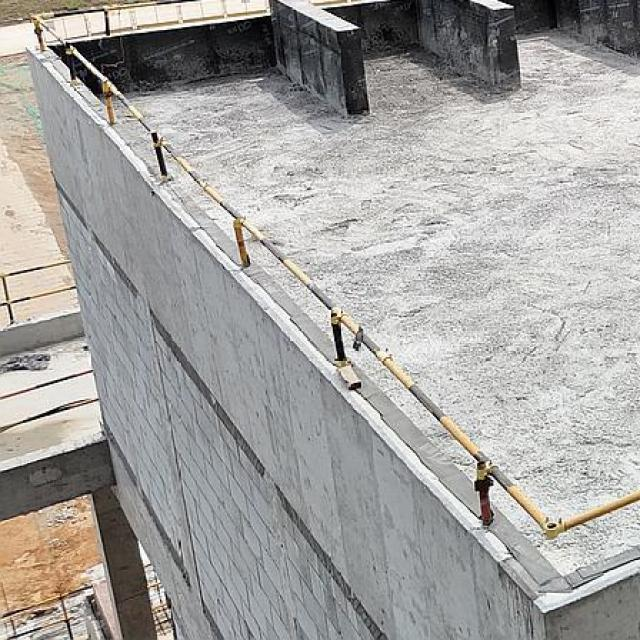edge_guardrail: (24, 0, 639, 541), (0, 575, 107, 640), (0, 368, 101, 434), (0, 258, 77, 325)
